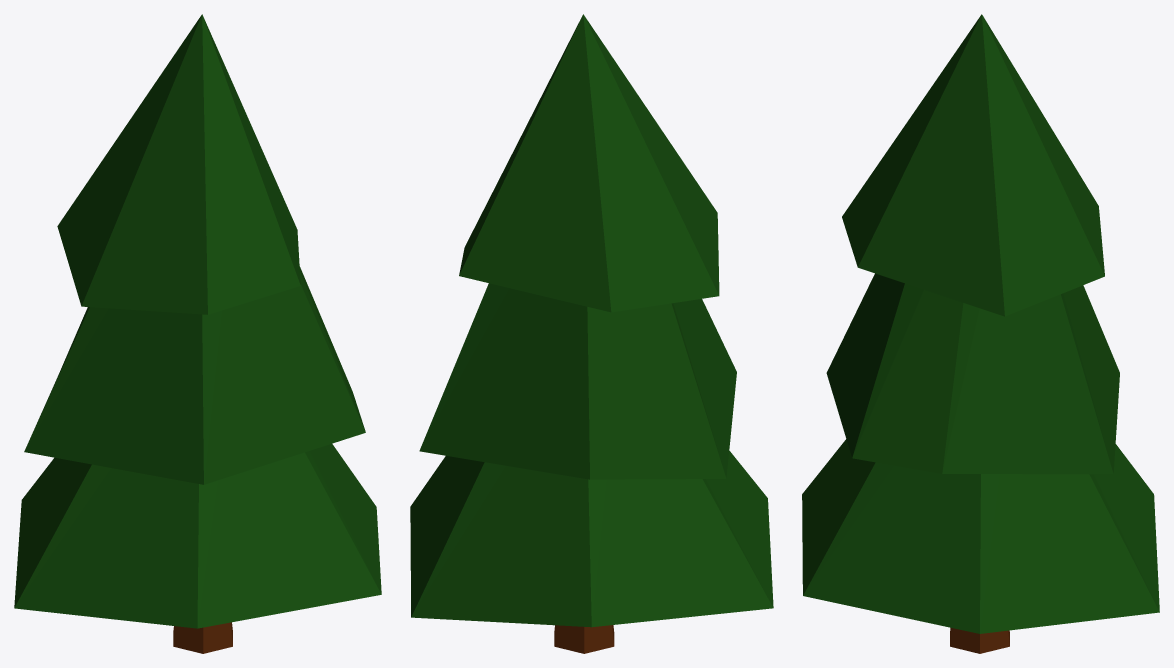
The model's file is fir.FBX.
3 renders of one model, left to right at view 1: azimuth 30°, elevation 25°; view 2: azimuth 150°, elevation 25°; view 3: azimuth 270°, elevation 25°, orthographic.
Parts seen in each view (by area): view 1: Cylinder001; view 2: Cylinder001; view 3: Cylinder001.
Part boxes in pixels (x1,y1,x2,y2): Cylinder001: [14, 14, 381, 653]; Cylinder001: [410, 14, 773, 653]; Cylinder001: [802, 14, 1159, 653].
Size of the model in its own units: 48.51 by 79.91 by 41.43.
